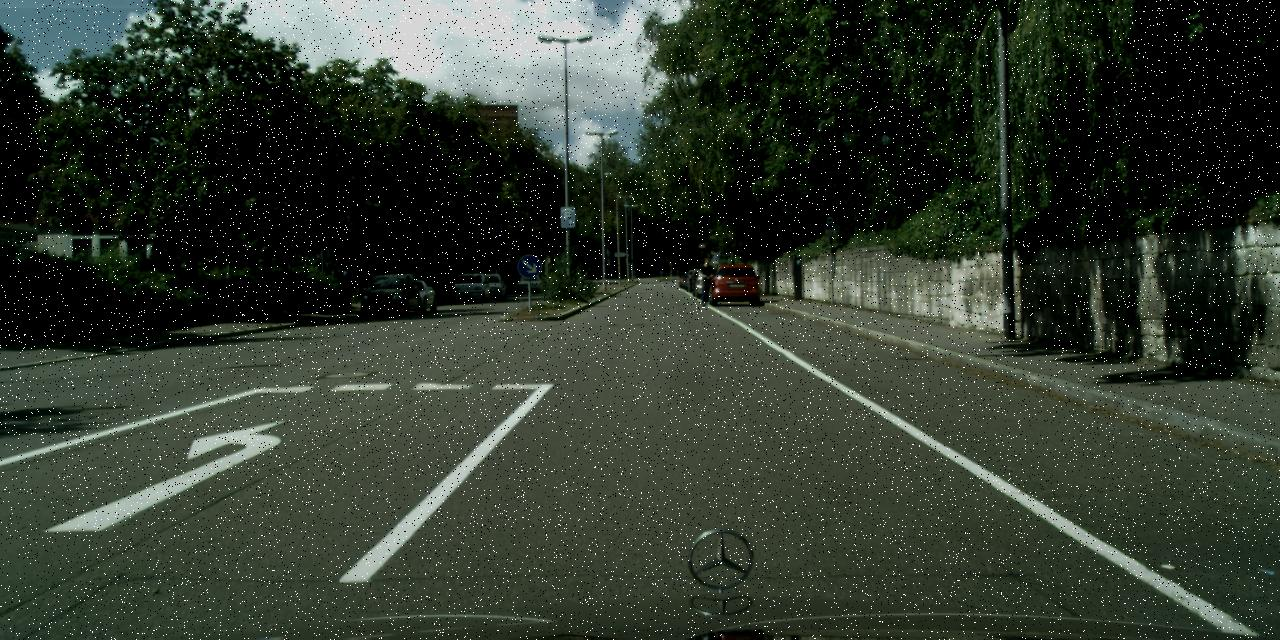ped: (696, 258, 715, 304)
